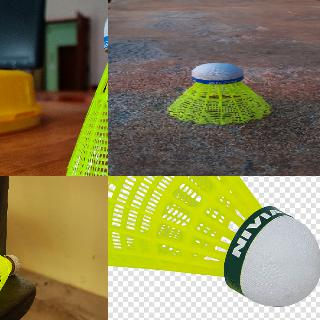shuttlecock: (108, 176, 319, 307), (66, 4, 107, 175), (168, 62, 273, 123), (0, 244, 20, 302)
